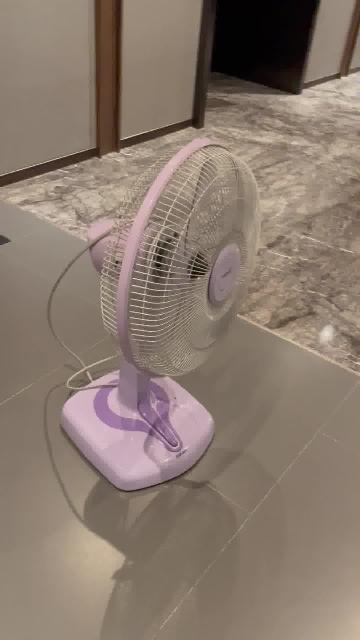Fan: (60, 137, 259, 492)
